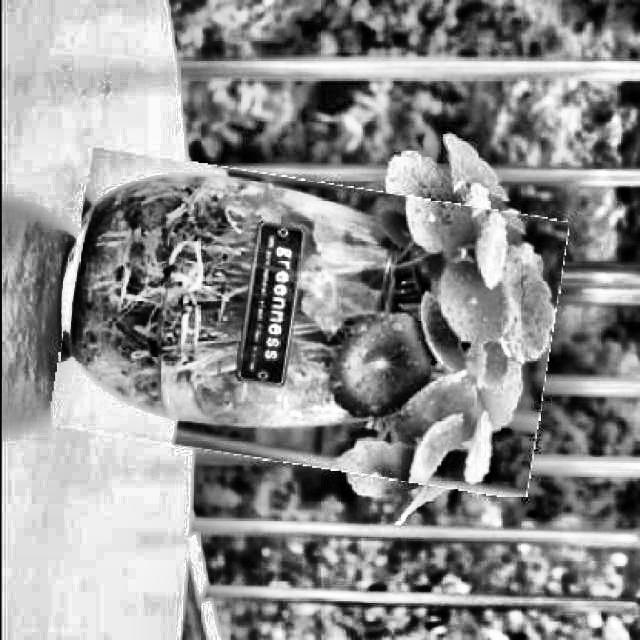plants: (56, 164, 558, 481)
